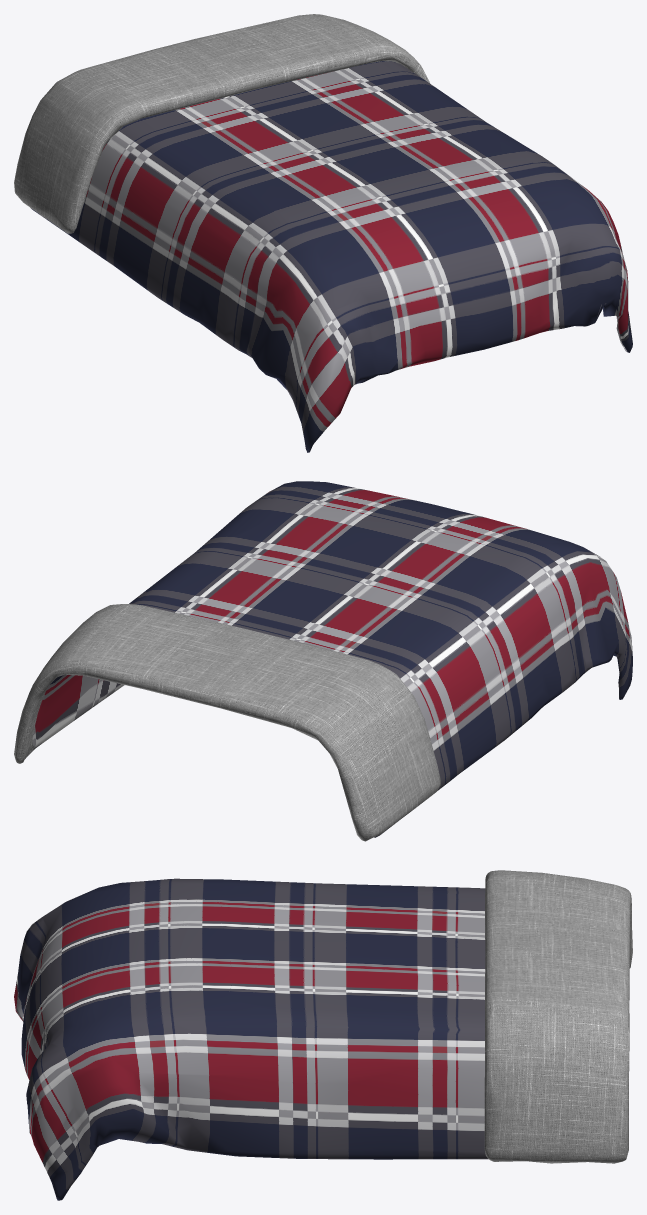
File: Blanket.FBX
3 renders of one model, top to bottom at view 1: azimuth 30°, elevation 25°; view 2: azimuth 150°, elevation 25°; view 3: azimuth 270°, elevation 25°, orthographic. The views are drawn at different scales.
Parts seen in each view (by area): view 1: blanket; view 2: blanket; view 3: blanket.
Boxes of the visible parts, box(x1,y1,x2,y2) form: blanket: box(14, 14, 632, 452); blanket: box(14, 481, 632, 841); blanket: box(14, 870, 632, 1200).
Size of the model in its own units: 117 by 54.9 by 157.
